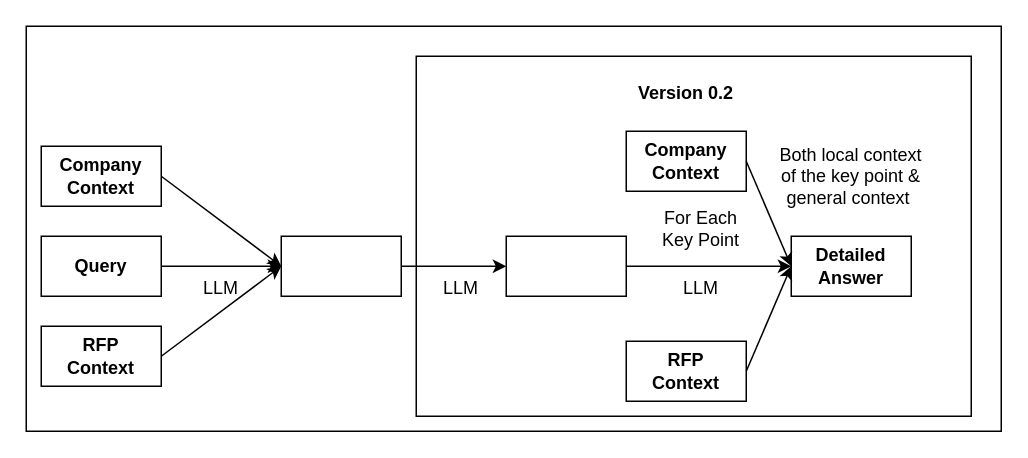
Image size: 1028x458. Some labels were removed from this diagram. The shapes that lost their labels are listed below. From the top down, each one's centre as x and y in pixels, then its label:
At (x=340, y=265): "Simple Answer".
At (x=565, y=265): "JSON Answer".
